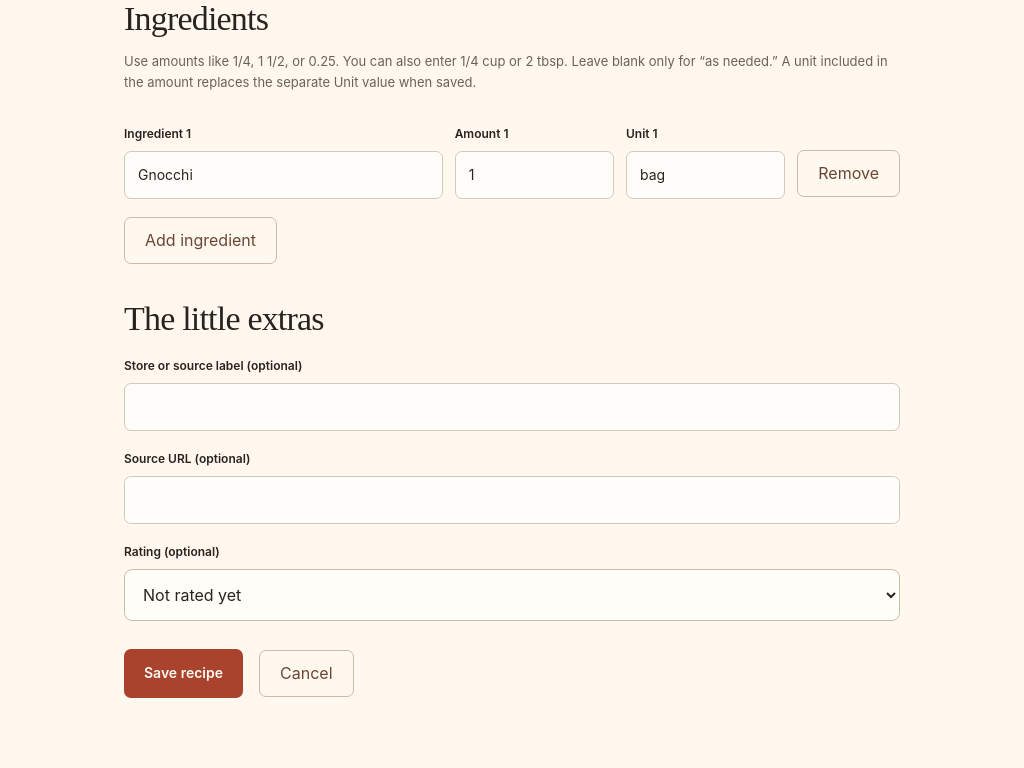
blocks duplicate submissions while a save is pending
This screenshot has width=1024, height=768.
(page scrolled)
Click the button "Save recipe" at [184, 674], box [124,649,243,698]
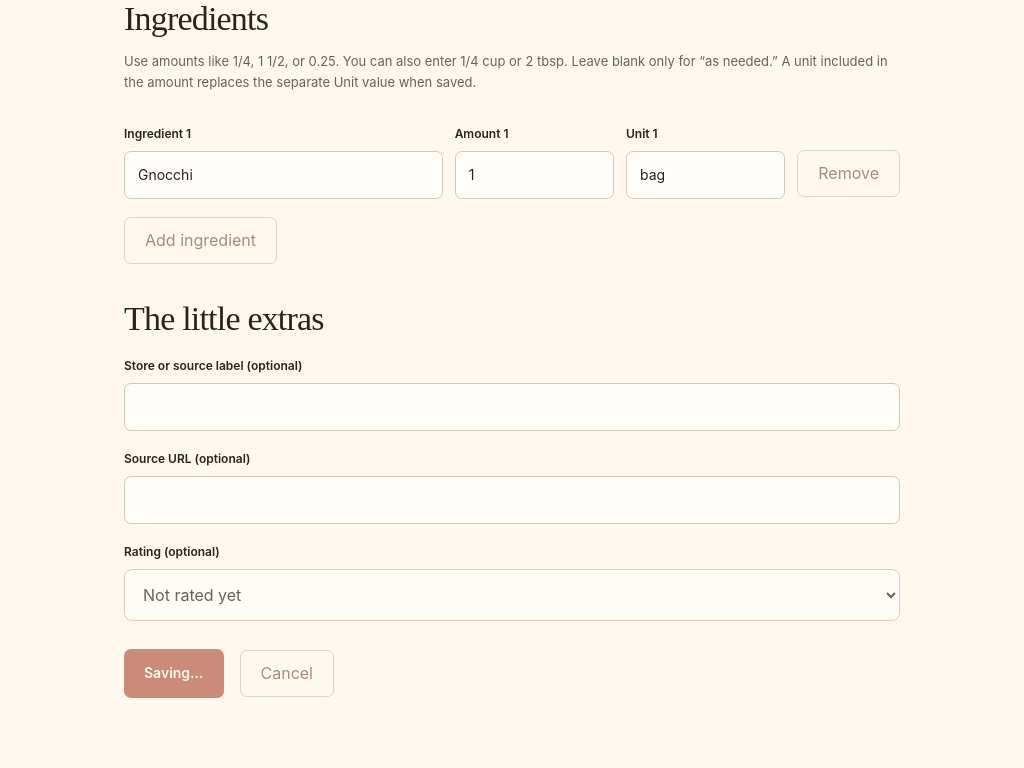
Click the button "Saving…" at [174, 674], box [124,649,224,698]
(page scrolled)
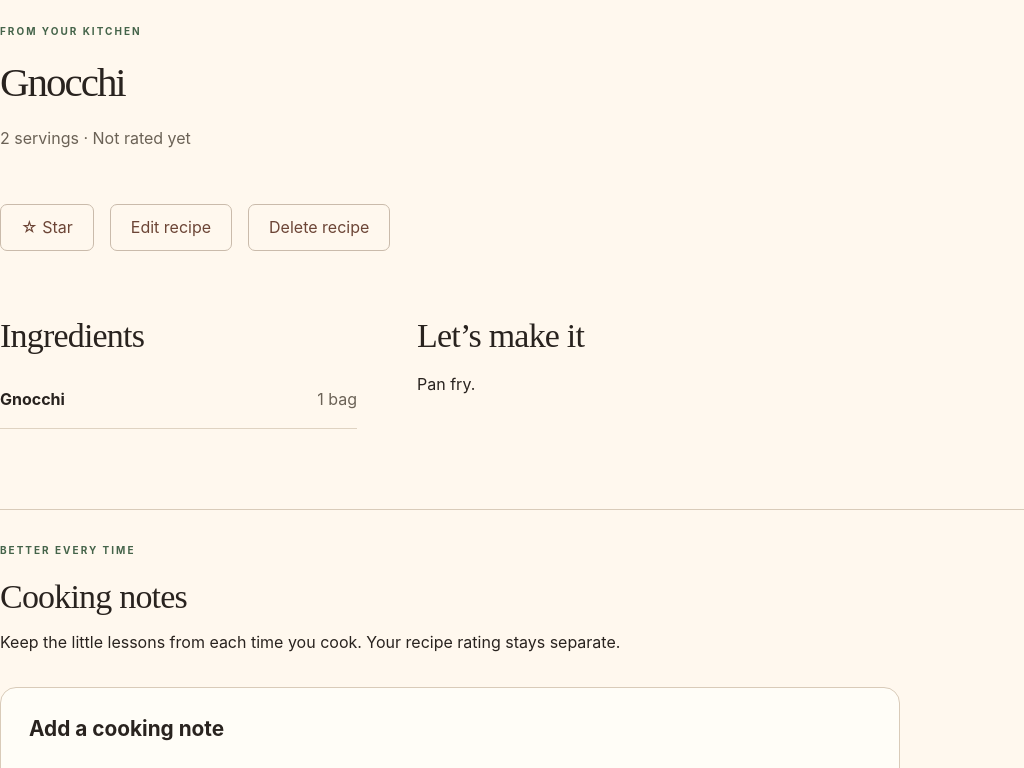
expect the text "Pan fry." is shown: met, box [417,374,475,394]
